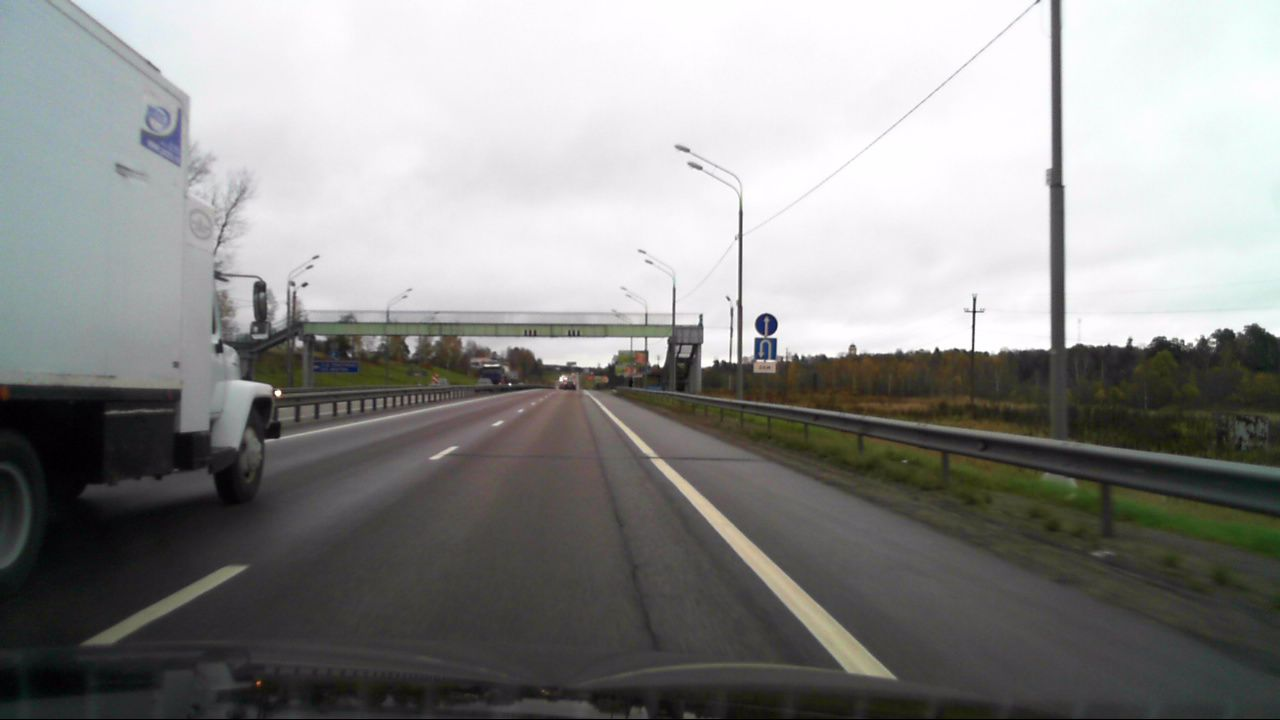U-turn: (755, 338, 777, 360)
